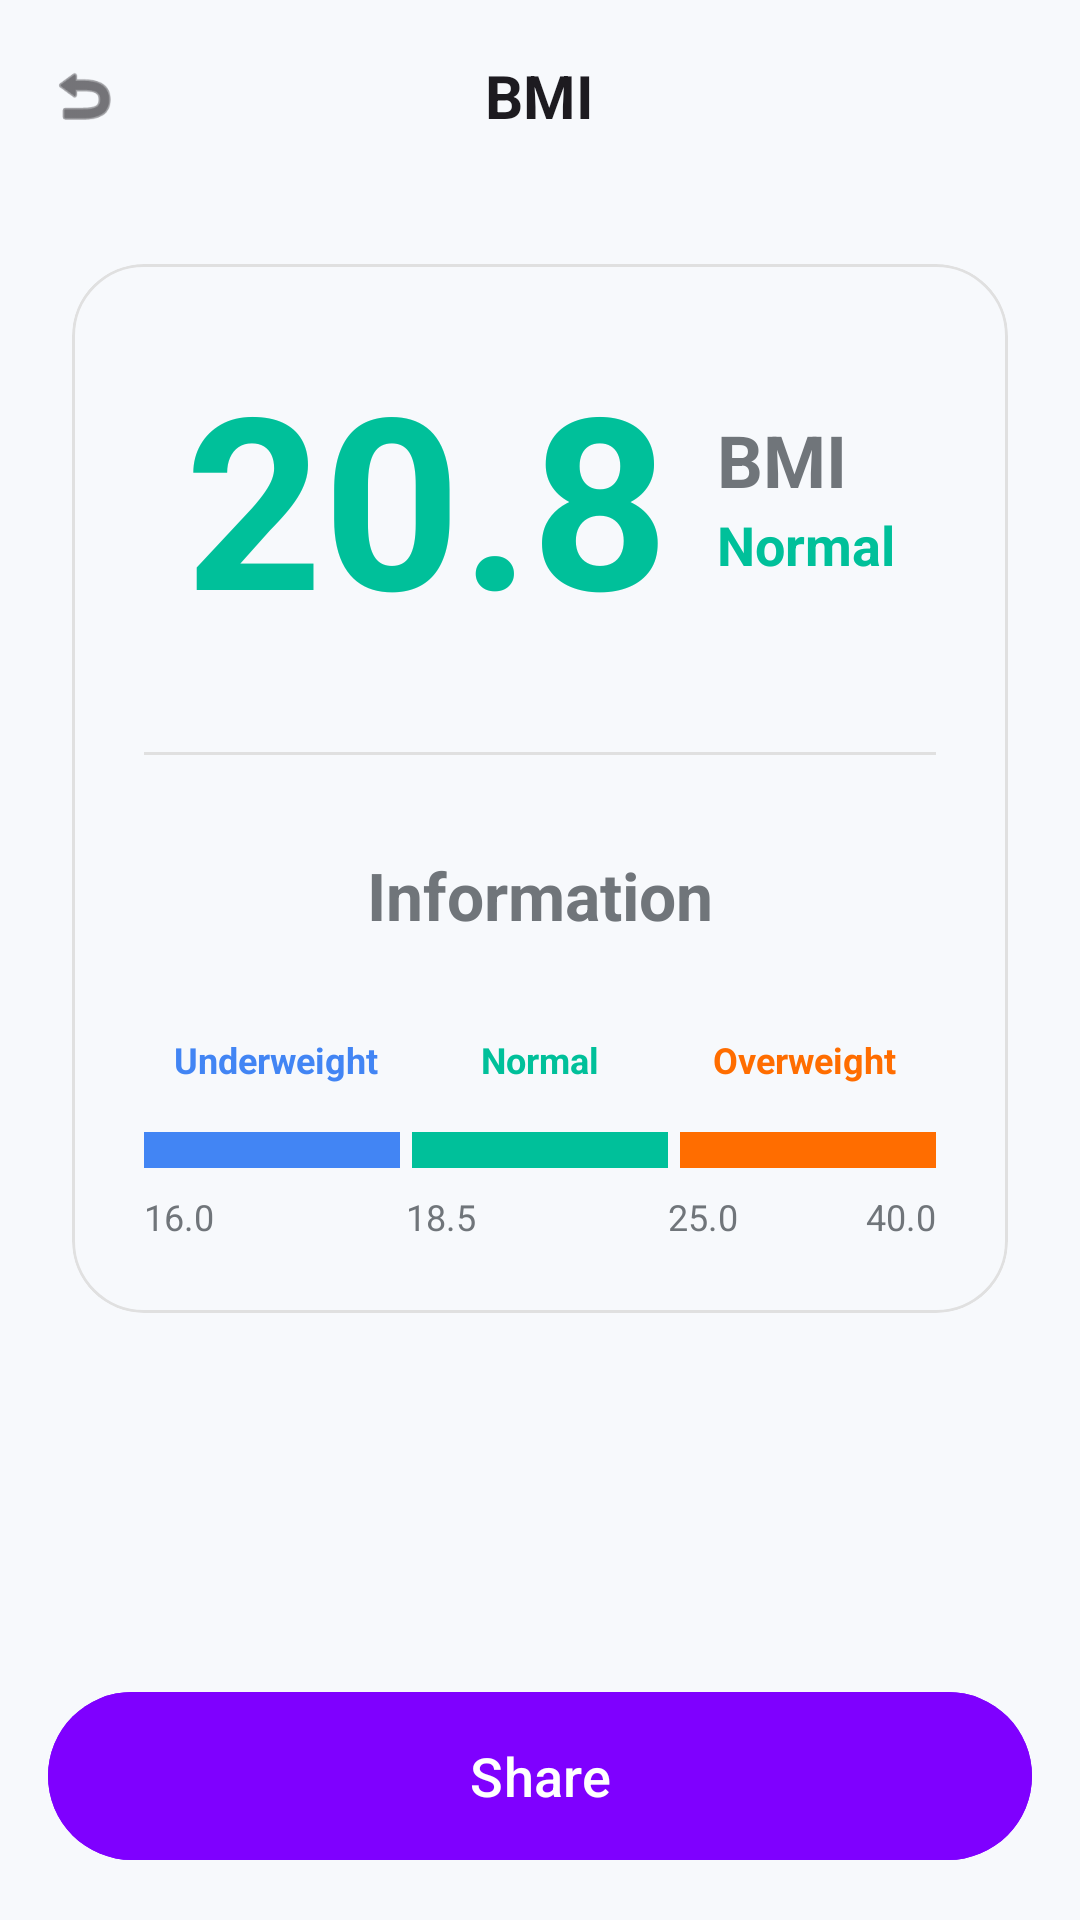

Screen size 1080w x 1920h. Icon name, then its box in pixels as (x1, y1, x2, y2):
revert: (59, 73, 111, 120)
